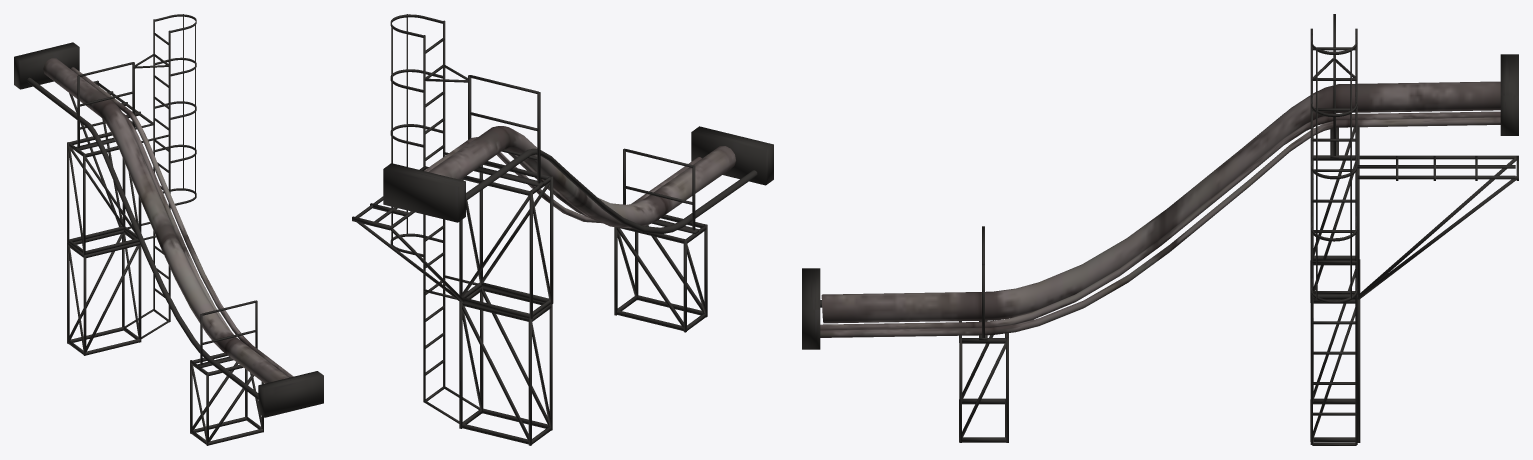
Rendered from Pipe_3.glb.
3 views of the same model, side by side, from view 1: azimuth 30°, elevation 25°; view 2: azimuth 150°, elevation 25°; view 3: azimuth 270°, elevation 25° (orthographic). The views are drawn at different scales.
Visible parts, largest first — view 1: Pipe_3; view 2: Pipe_3; view 3: Pipe_3.
Part boxes in pixels (x1=…): Pipe_3: x1=14, y1=14, x2=323, y2=445; Pipe_3: x1=352, y1=14, x2=773, y2=445; Pipe_3: x1=802, y1=14, x2=1518, y2=445.
Bounding box in the file's own units: 4.23 × 10.32 × 15.44.
Materials: 1 (1 with a texture image).
